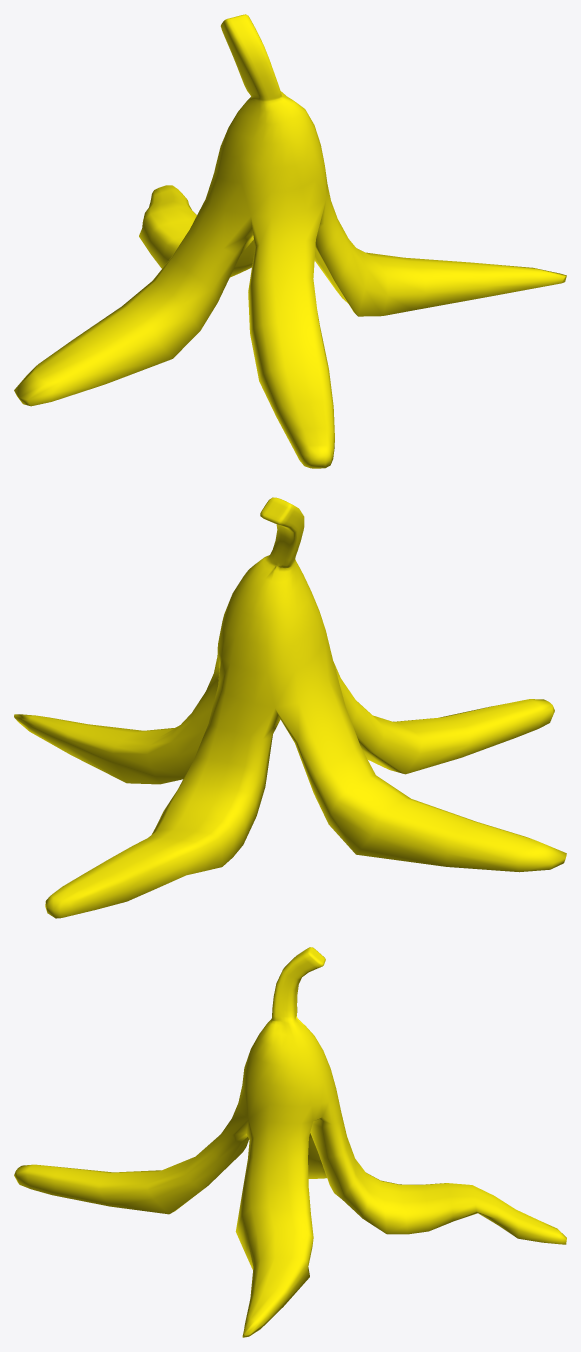
Rendered from banana.fbx.
3 views of the same model, one above another, from view 1: azimuth 30°, elevation 25°; view 2: azimuth 150°, elevation 25°; view 3: azimuth 270°, elevation 25° (orthographic). The views are drawn at different scales.
Parts seen in each view (by area): view 1: Cube.002; view 2: Cube.002; view 3: Cube.002.
Boxes of the visible parts, box(x1,y1,x2,y2) form: Cube.002: box(14, 14, 566, 468); Cube.002: box(14, 497, 566, 918); Cube.002: box(14, 947, 566, 1337).
Bounding box in the file's own units: 531 × 292 × 547.
